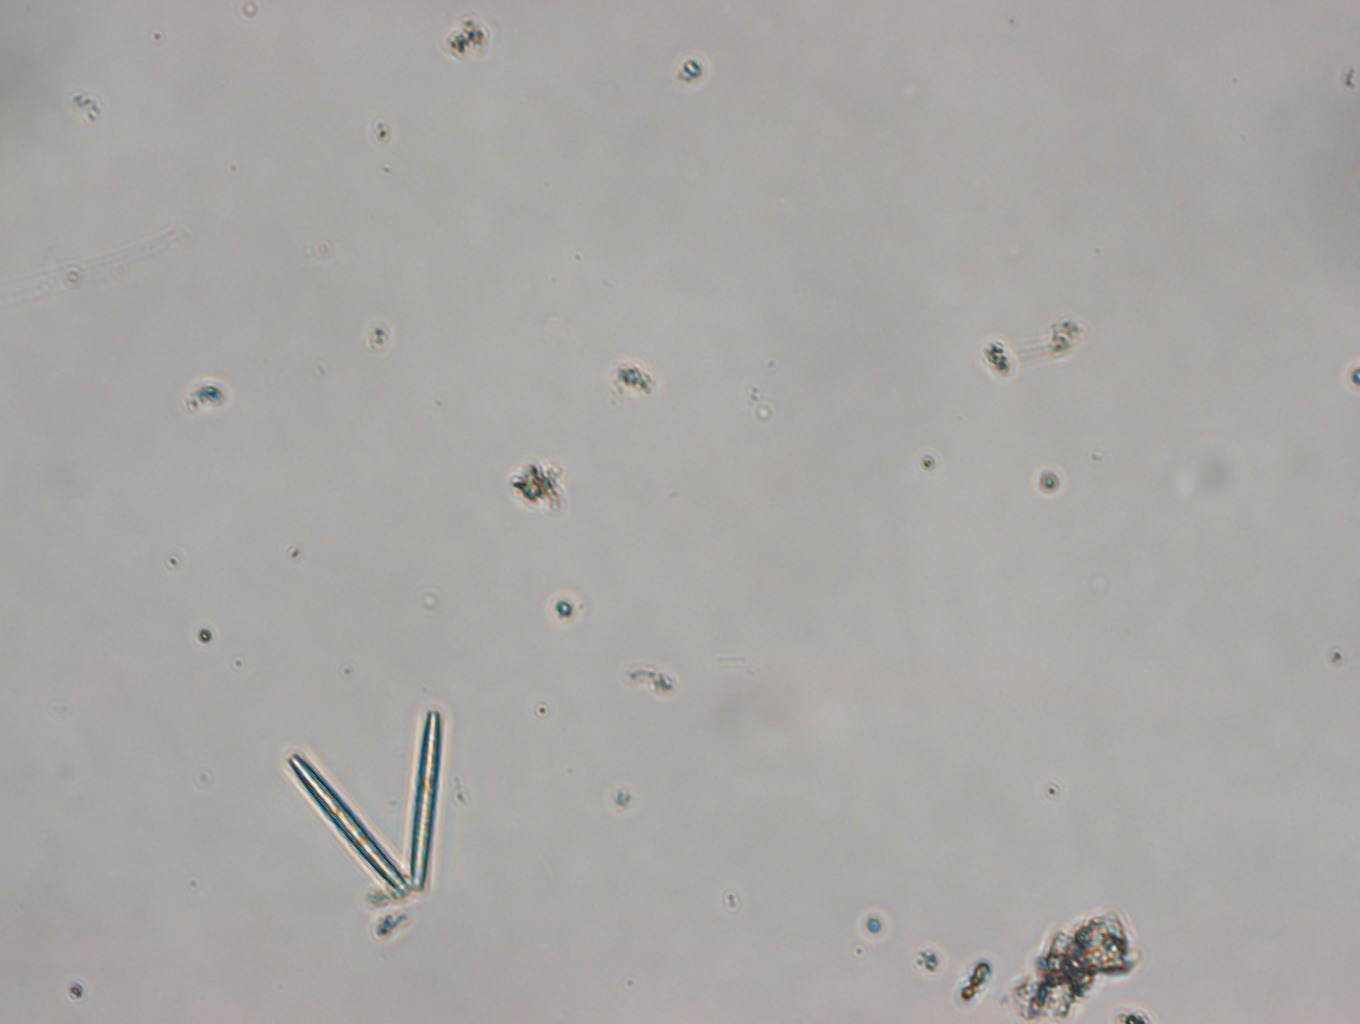thalassionema frauenfeldii: (278, 706, 446, 904)
